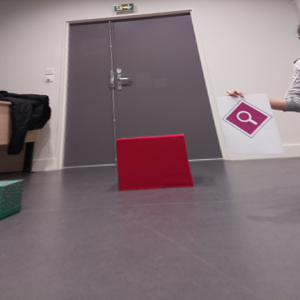search: (226, 99, 272, 139)
